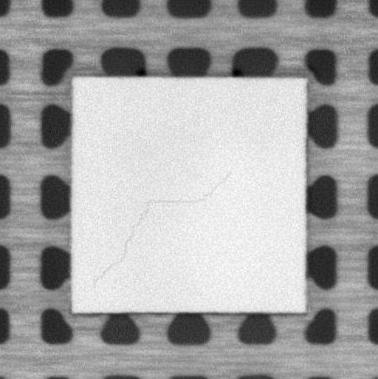DIE_CRACK: (93, 171, 233, 292)
